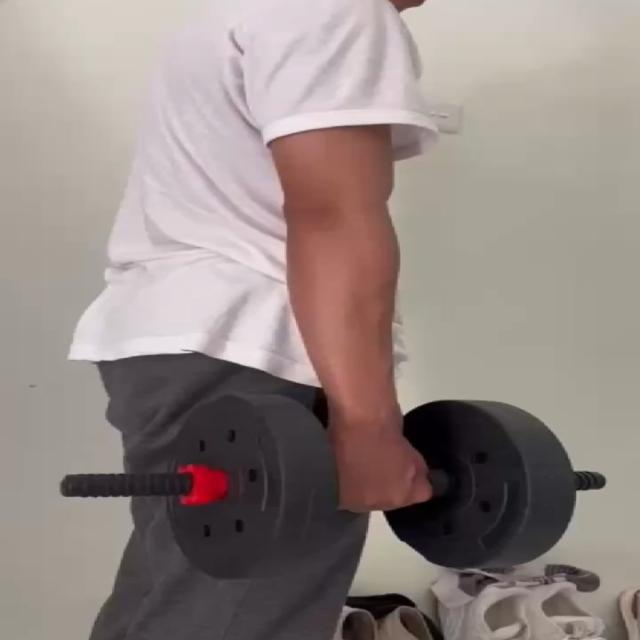hammer: (163, 383, 624, 582)
